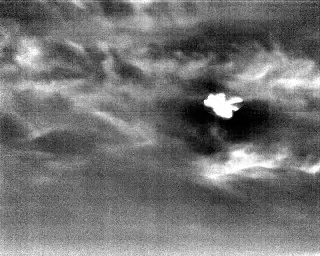HELICOPTER: (200, 86, 247, 123)
